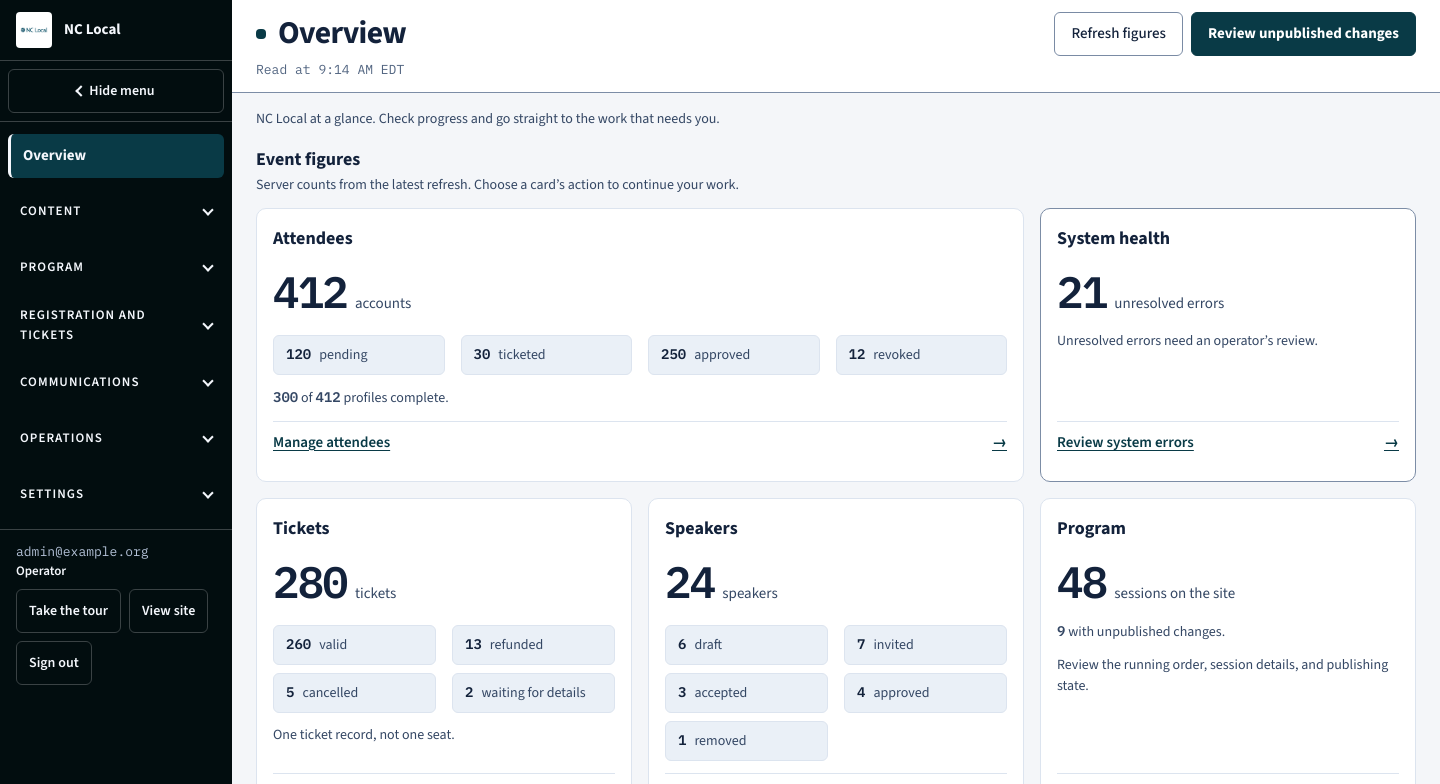
Test: the admin overview › keeps the figures it has when a refresh fails, and says when they were read
Expected: the text "Read at 9:14 AM EDT" is shown, [256,61,404,78]
Click the button "Refresh figures" at (1119, 34), box [1054,12,1183,56]
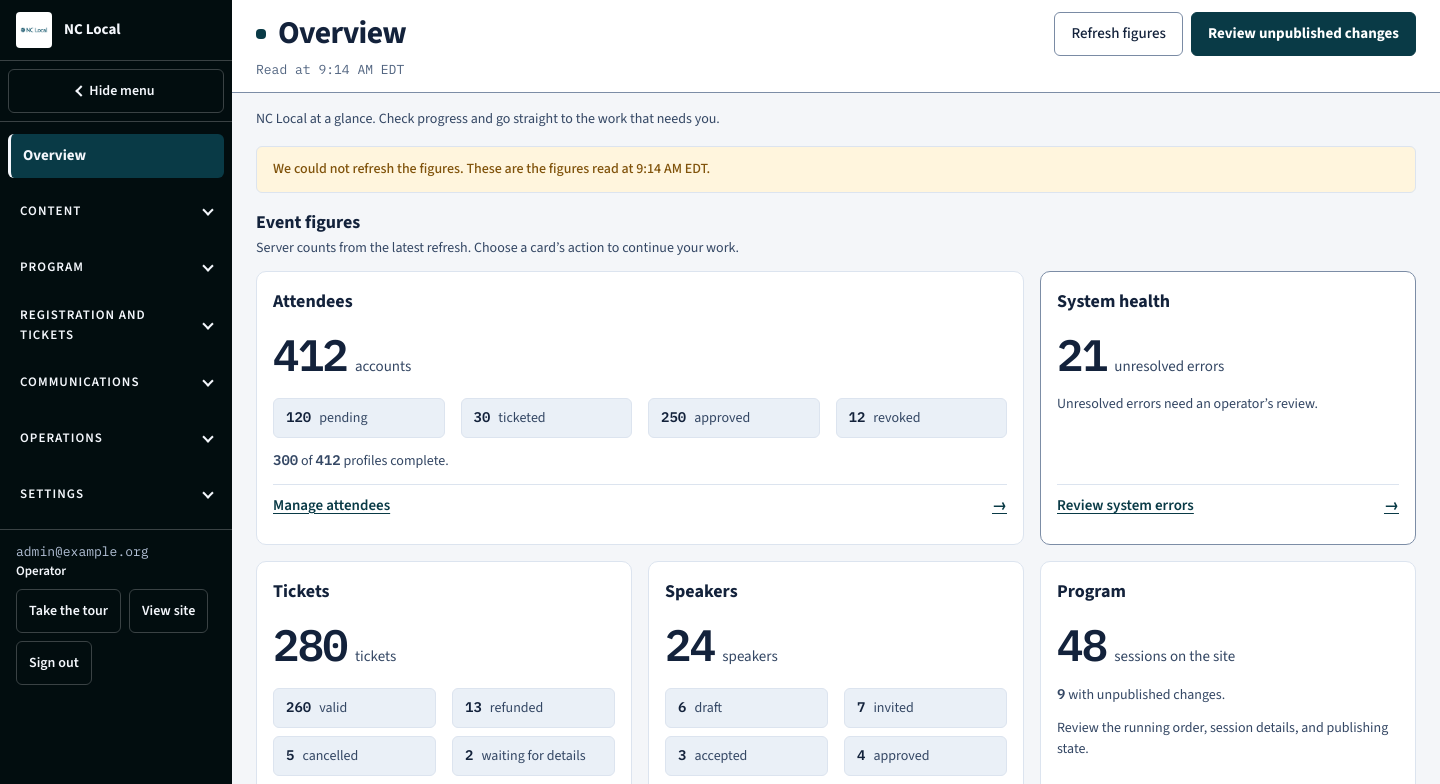
Expected: the element with class "admin-figure-total" reads "412 accounts", [273,326,411,382]
Expected: the text "We could not refresh the figures. These are the figures read at 9:14 AM EDT." is shown, [256,146,1416,192]
